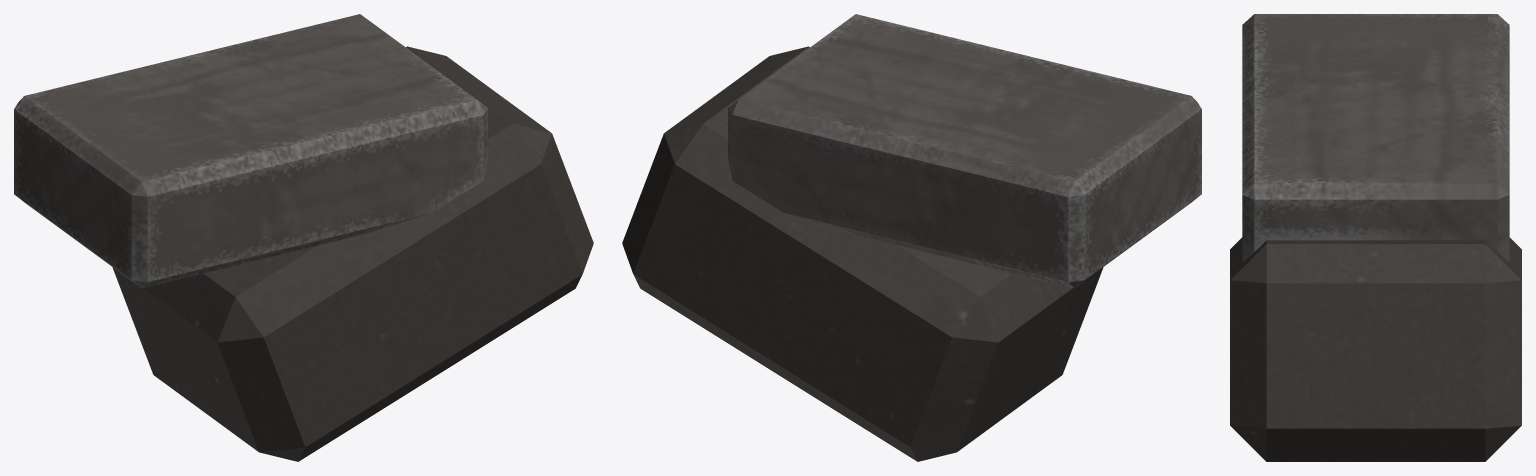
File: halfmoon_stop.glb
3 renders of one model, left to right at view 1: azimuth 30°, elevation 25°; view 2: azimuth 150°, elevation 25°; view 3: azimuth 270°, elevation 25°, orthographic. The views are drawn at different scales.
Visible parts, largest first — view 1: halfmoon_stop; view 2: halfmoon_stop; view 3: halfmoon_stop.
Part boxes in pixels (x1,y1,x2,y2): halfmoon_stop: [14, 14, 593, 461]; halfmoon_stop: [622, 14, 1201, 461]; halfmoon_stop: [1230, 14, 1521, 461].
Bounding box in the file's own units: 0.046 × 0.0304 × 0.024.
Materials: 1 (1 with a texture image).
